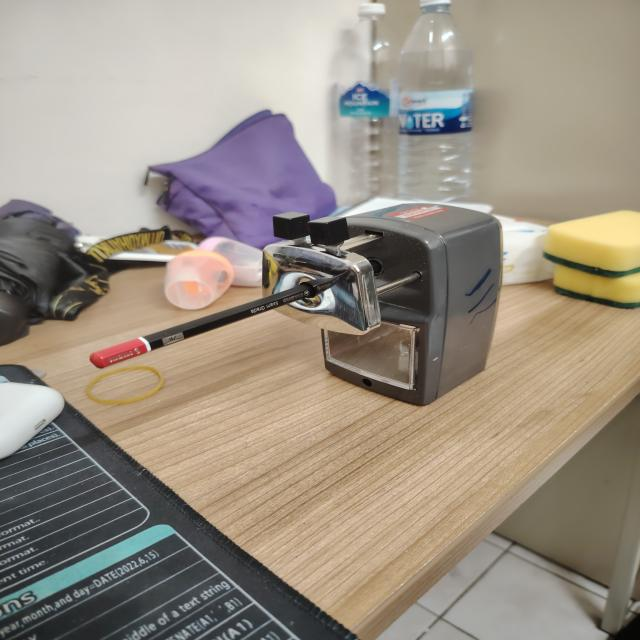pencil: (90, 271, 346, 368)
sharpener: (263, 203, 502, 405), (165, 250, 234, 309), (198, 236, 262, 286)
